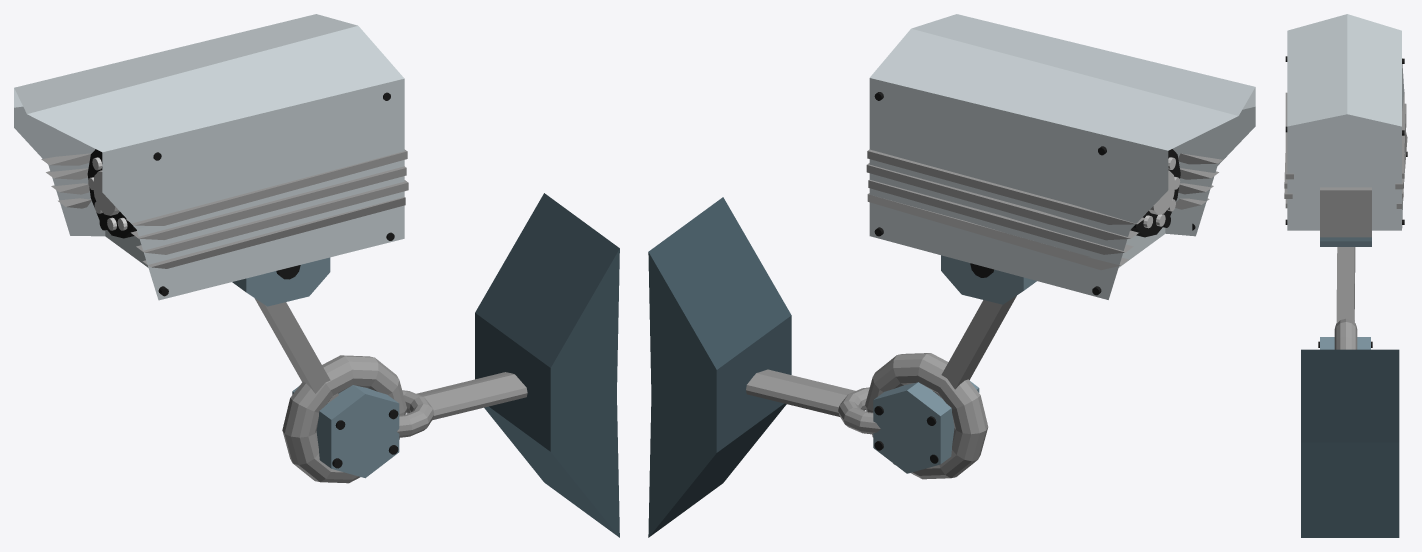
Rendered from CCTV.fbx.
The picture shows the model from 3 angles, left to right: view 1: azimuth 30°, elevation 25°; view 2: azimuth 150°, elevation 25°; view 3: azimuth 270°, elevation 25°; orthographic projection. The views are drawn at different scales.
Visible parts, largest first — view 1: mesh_1447428554, group_2000532474, group_1282069192, group_887744193, group_312199371, mesh_634493169, mesh_1407179539; view 2: mesh_1447428554, group_2000532474, group_1282069192, mesh_1153316989, mesh_981192065, mesh_404246174, group_312199371, mesh_1151621074, group_887744193, mesh_634493169, mesh_1407179539; view 3: mesh_1447428554, group_2000532474, group_312199371, group_1282069192, group_887744193, mesh_1153316989, mesh_981192065.
Boxes of the visible parts, x1,y1,x2,y2 form: mesh_1447428554: [14, 14, 404, 300]; group_2000532474: [416, 193, 619, 537]; group_1282069192: [254, 298, 406, 483]; group_887744193: [126, 149, 408, 268]; group_312199371: [232, 257, 330, 306]; mesh_634493169: [397, 390, 434, 437]; mesh_1407179539: [87, 149, 136, 238]; mesh_1447428554: [869, 14, 1255, 299]; group_2000532474: [648, 197, 855, 537]; group_1282069192: [865, 295, 1016, 479]; mesh_1153316989: [867, 149, 1145, 224]; mesh_981192065: [866, 163, 1138, 240]; mesh_404246174: [868, 179, 1133, 254]; group_312199371: [941, 255, 1036, 304]; mesh_1151621074: [867, 193, 1128, 270]; group_887744193: [1175, 153, 1222, 209]; mesh_634493169: [838, 387, 880, 434]; mesh_1407179539: [1130, 149, 1180, 237]; mesh_1447428554: [1287, 14, 1404, 230]; group_2000532474: [1301, 349, 1399, 537]; group_312199371: [1320, 187, 1371, 246]; group_1282069192: [1318, 247, 1372, 349]; group_887744193: [1284, 92, 1293, 208]; mesh_1153316989: [1402, 92, 1404, 178]; mesh_981192065: [1395, 103, 1406, 189].
Bounding box in the file's own units: 153 × 142 × 45.
